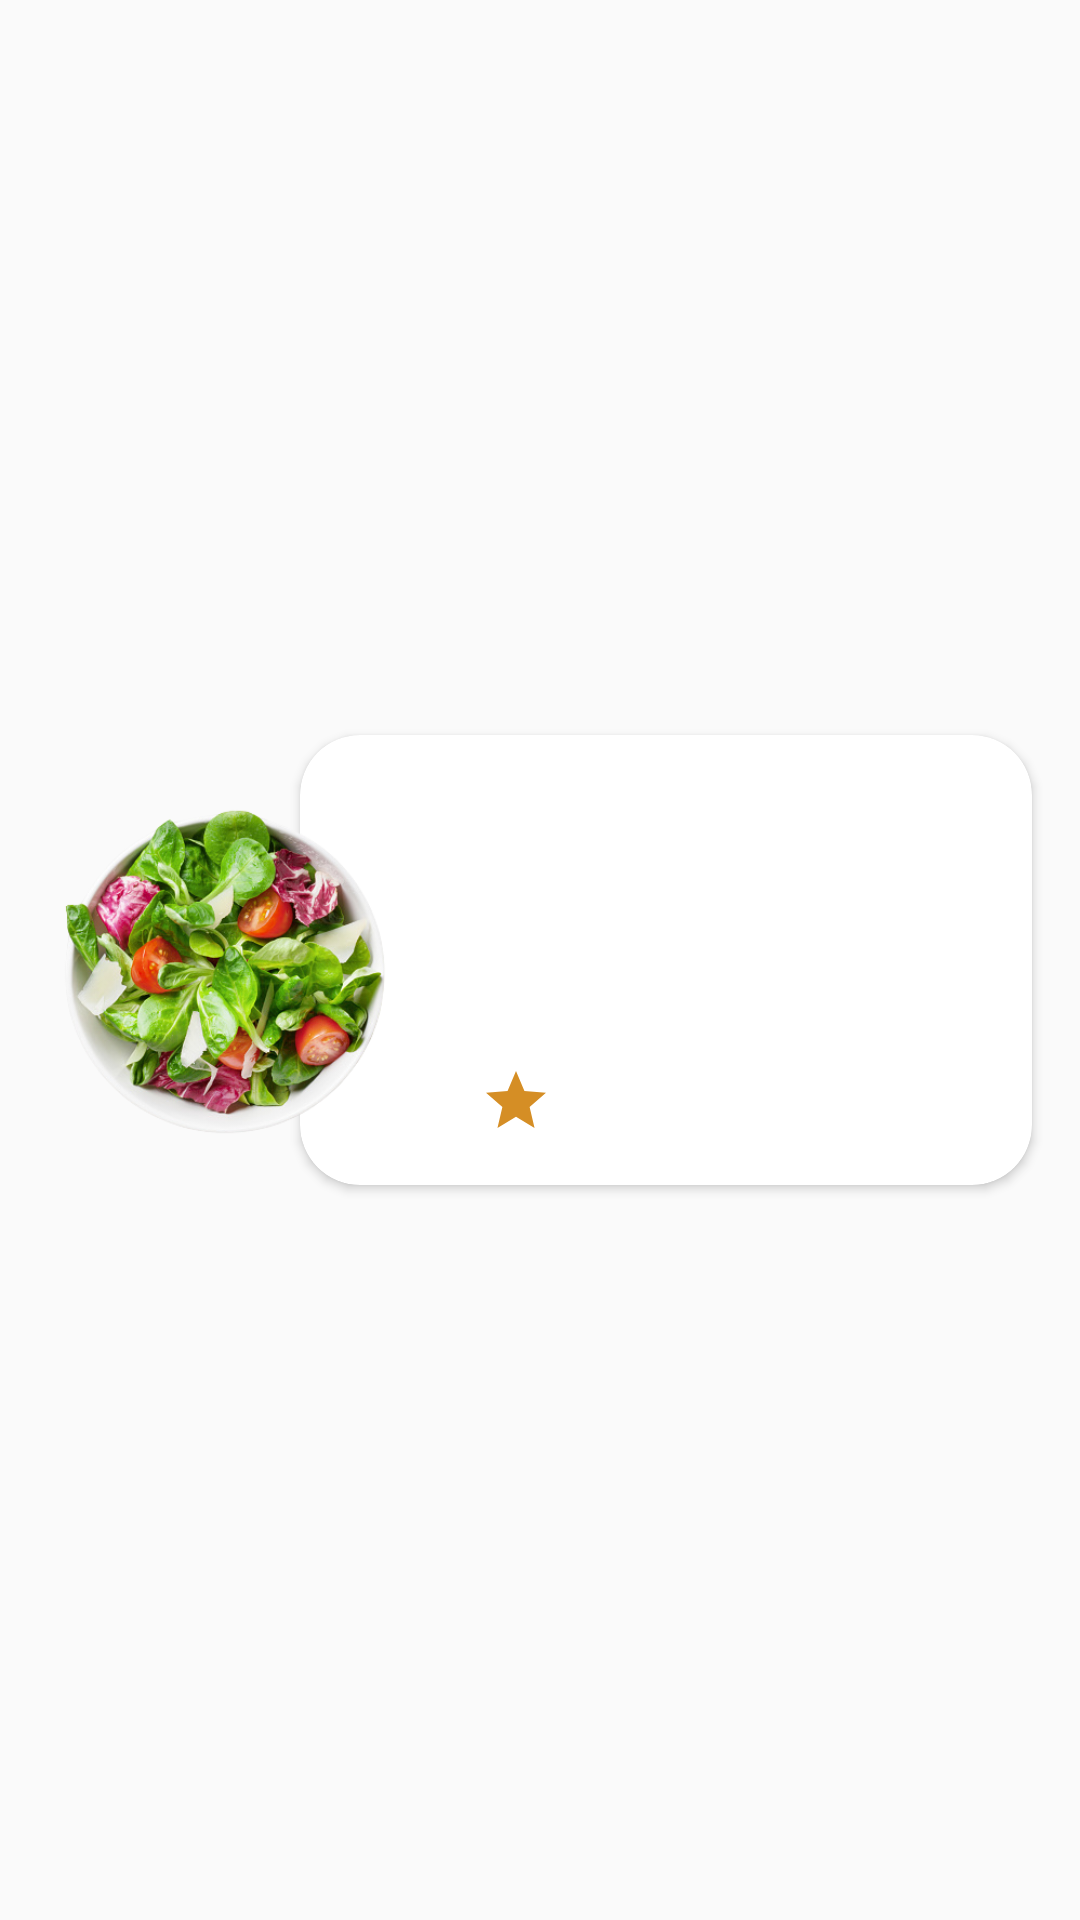

Named icons in this screenshot (1080w x 1920h) and their centers, (x=x, y=y):
salad: (x=225, y=952)
star: (x=516, y=1099)
